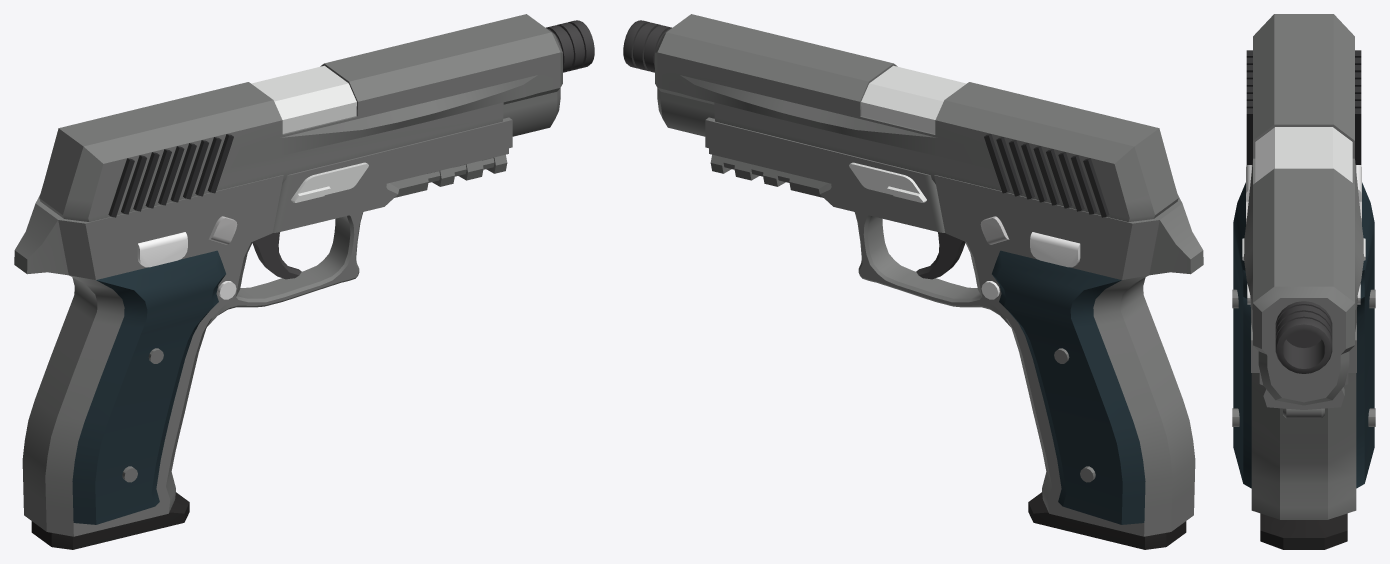
Rendered from Sig_Saguer_P226_Mesh.fbx.
3 views of the same model, side by side, from view 1: azimuth 30°, elevation 25°; view 2: azimuth 150°, elevation 25°; view 3: azimuth 270°, elevation 25° (orthographic). The views are drawn at different scales.
Visible parts, largest first — view 1: Sig_Saguer_P226; view 2: Sig_Saguer_P226; view 3: Sig_Saguer_P226.
Boxes of the visible parts, bbox=[...] form: Sig_Saguer_P226: bbox=[14, 14, 594, 549]; Sig_Saguer_P226: bbox=[623, 14, 1203, 549]; Sig_Saguer_P226: bbox=[1232, 14, 1375, 549].
Size of the model in its own units: 0.3183 by 0.2134 by 0.0588.
